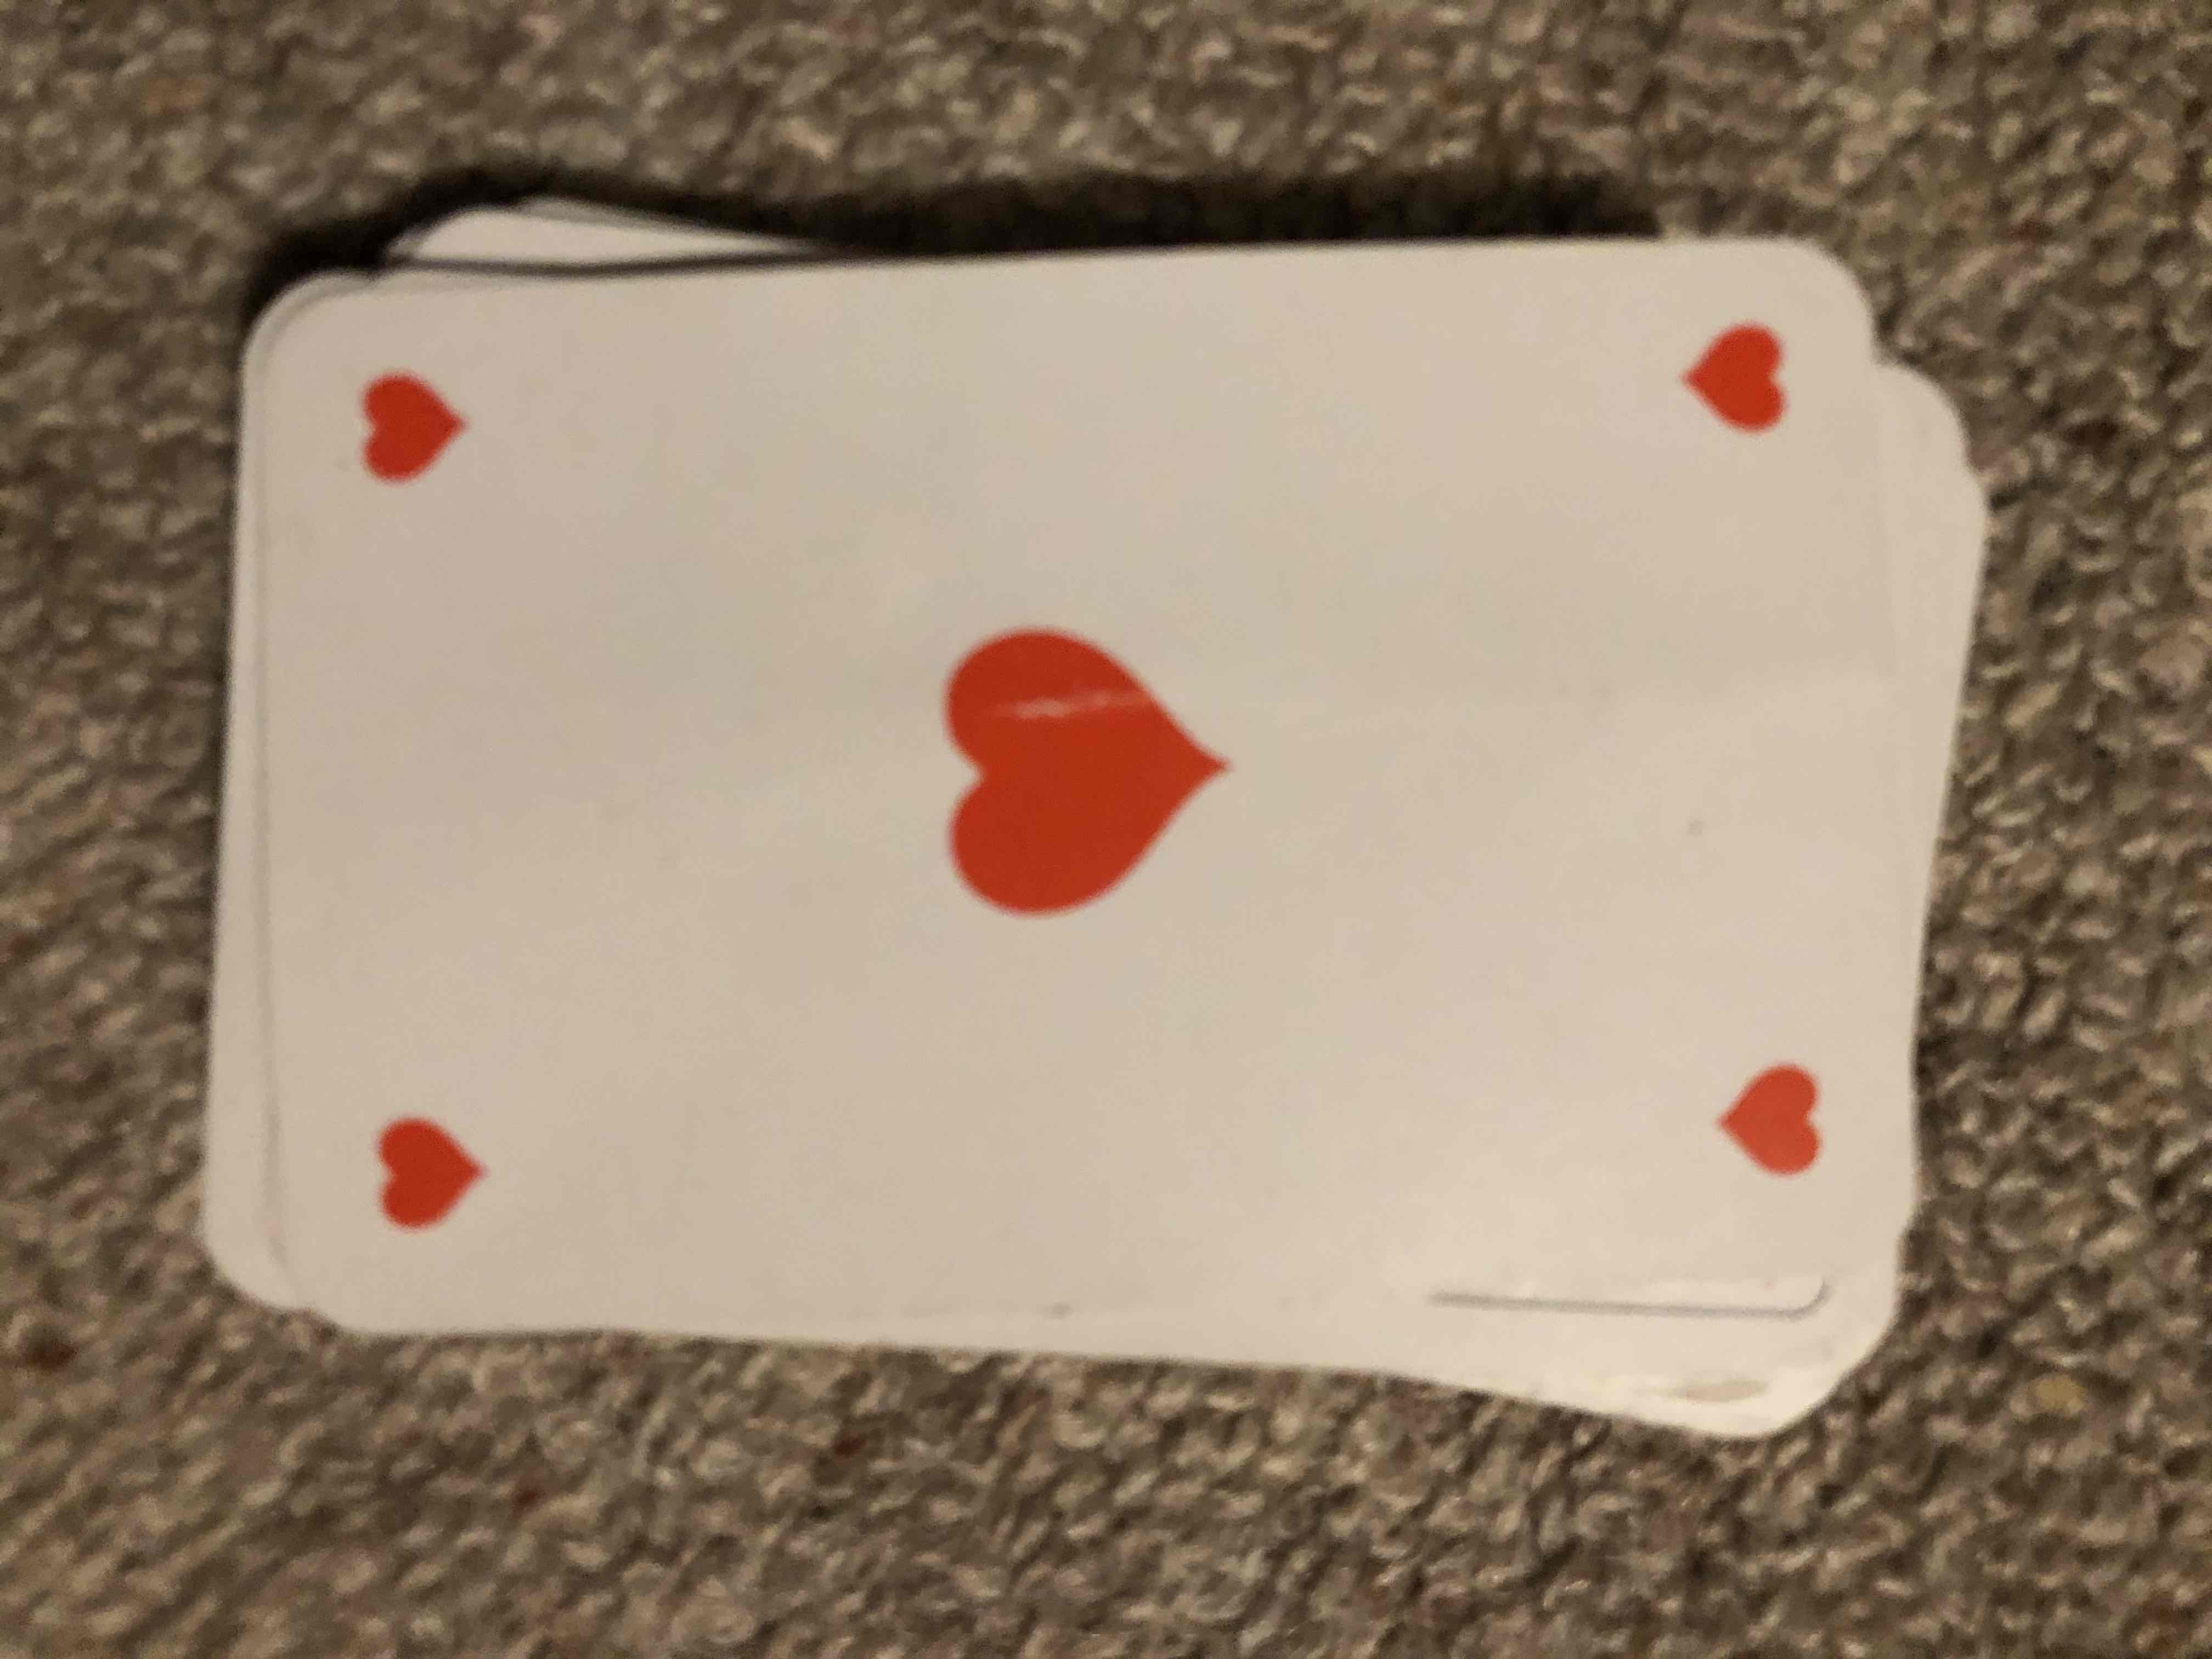heartsAce: (253, 291, 1925, 1305)
